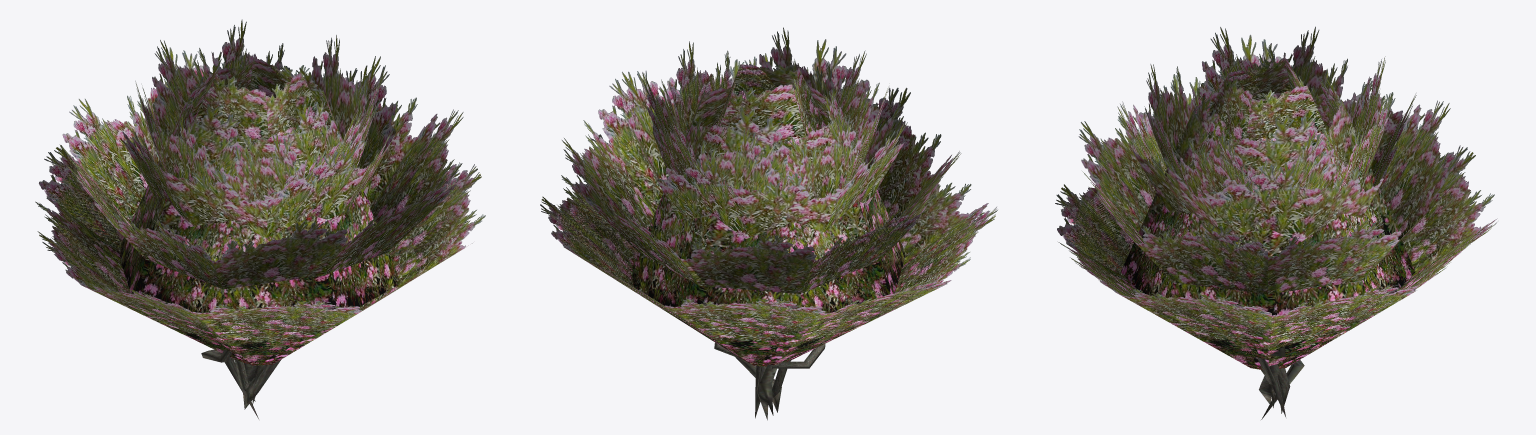
Rendered from oleanderBush.dae.
3 renders of one model, left to right at view 1: azimuth 30°, elevation 25°; view 2: azimuth 150°, elevation 25°; view 3: azimuth 270°, elevation 25°, orthographic.
Visible parts, largest first — view 1: bush; view 2: bush; view 3: bush.
Boxes of the visible parts, left/top/right/bottom form: bush: left=35, top=19, right=485, bottom=418; bush: left=540, top=27, right=997, bottom=420; bush: left=1055, top=26, right=1497, bottom=419.
Size of the model in its own units: 0.6095 by 0.5168 by 0.6135.
Materials: 1 (1 with a texture image).
